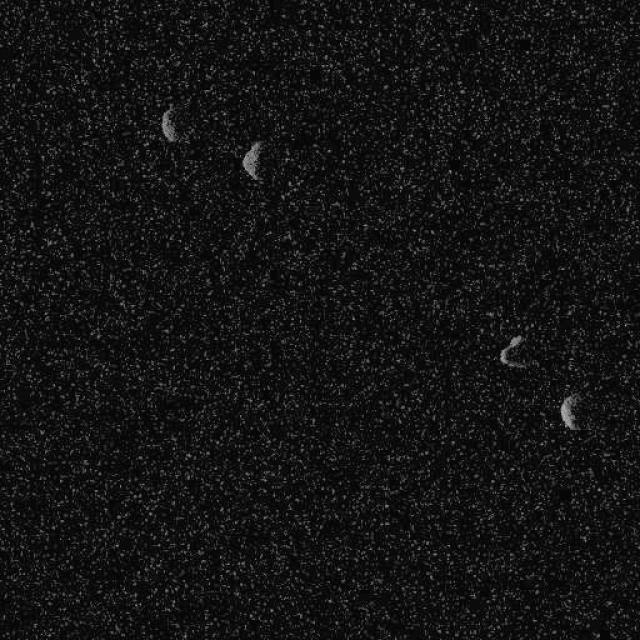D2: (498, 334, 528, 368), (240, 139, 264, 181), (559, 392, 581, 432), (160, 106, 178, 142)
